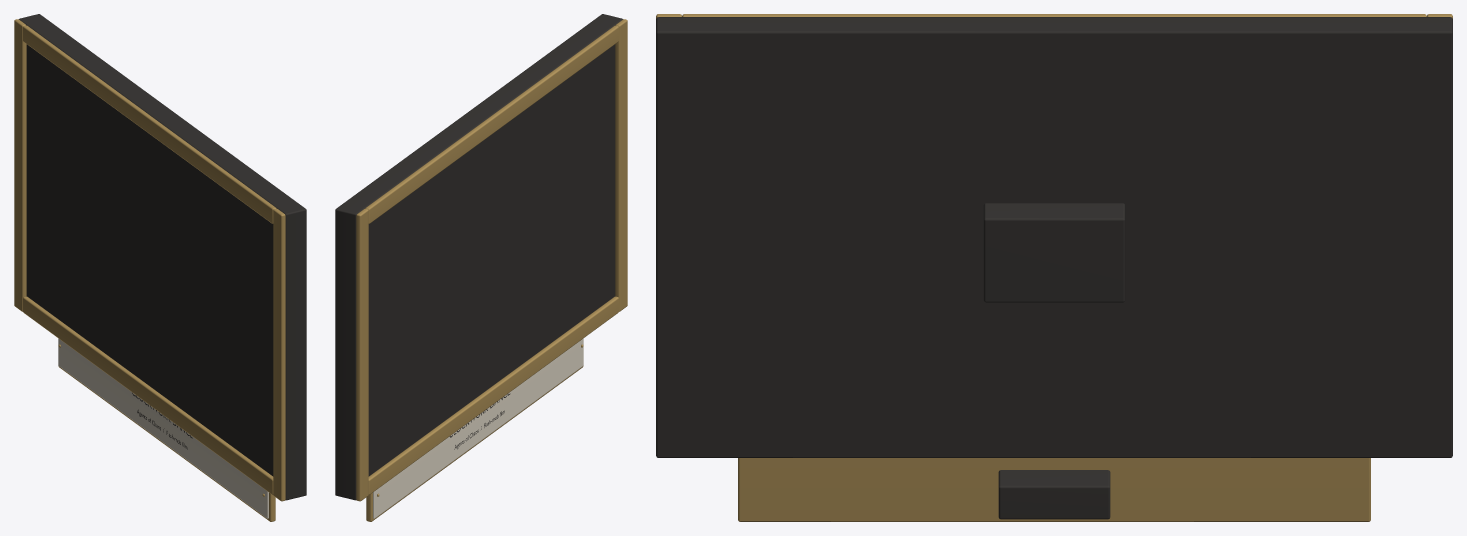
Rendered from bar-television.glb.
3 renders of one model, left to right at view 1: azimuth 30°, elevation 25°; view 2: azimuth 150°, elevation 25°; view 3: azimuth 270°, elevation 25°, orthographic. The views are drawn at different scales.
Parts seen in each view (by area): view 1: FCMU_Bar television cabinet, FCMU_Bar television bezel, FCMU_Dance television tag ivory face; view 2: FCMU_Bar television cabinet, FCMU_Bar television bezel, FCMU_Dance television tag ivory face; view 3: FCMU_Bar television cabinet, FCMU_Bar television bezel.
Part boxes in pixels (x1,y1,x2,y2): FCMU_Bar television cabinet: (19, 14, 306, 500); FCMU_Bar television bezel: (14, 19, 285, 521); FCMU_Dance television tag ivory face: (58, 338, 268, 518); FCMU_Bar television cabinet: (335, 14, 622, 500); FCMU_Bar television bezel: (356, 19, 627, 521); FCMU_Dance television tag ivory face: (373, 338, 583, 518); FCMU_Bar television cabinet: (656, 17, 1452, 519); FCMU_Bar television bezel: (656, 14, 1452, 521).
Bounding box in the file's own units: 0.22 × 1.46 × 2.14.
